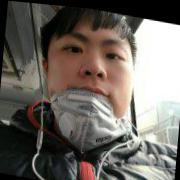WRONG: (43, 21, 138, 138)
